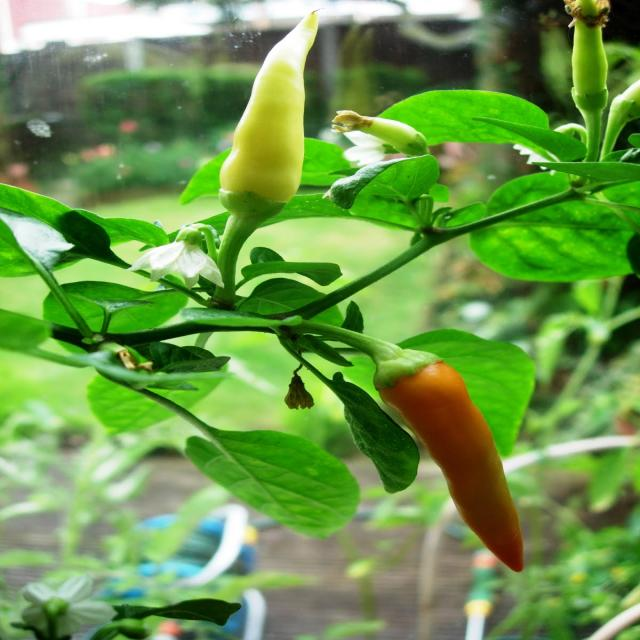Chilli Pepper: (285, 318, 539, 582), (171, 0, 344, 286)
